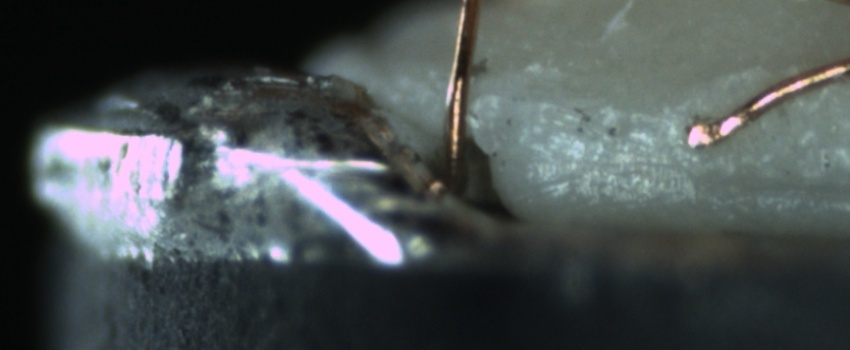DL: (528, 134, 679, 188), (742, 168, 850, 207)
